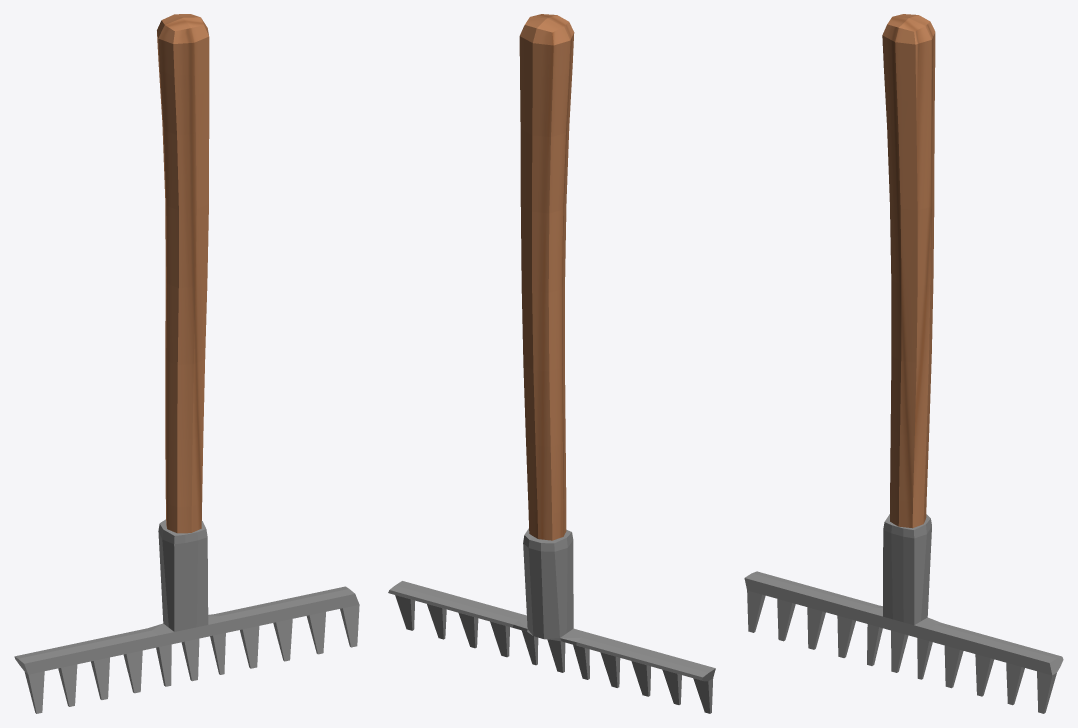
File: Grably.fbx
3 views of the same model, side by side, from view 1: azimuth 30°, elevation 25°; view 2: azimuth 150°, elevation 25°; view 3: azimuth 330°, elevation 25° (orthographic). The views are drawn at different scales.
Visible parts, largest first — view 1: Cube.044; view 2: Cube.044; view 3: Cube.044.
Part boxes in pixels (x1,y1,x2,y2): Cube.044: (14,14,359,713); Cube.044: (388,14,715,713); Cube.044: (744,14,1063,713).
Size of the model in its own units: 128 by 247 by 21.6.
